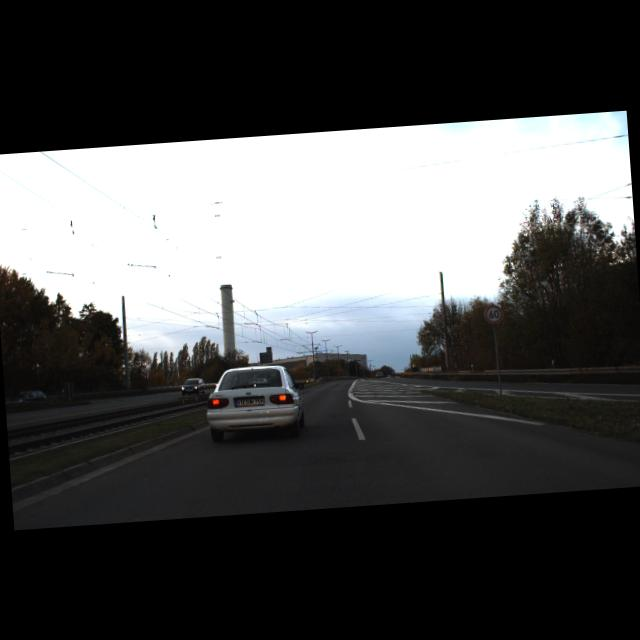prohibitory: (482, 304, 503, 324)
